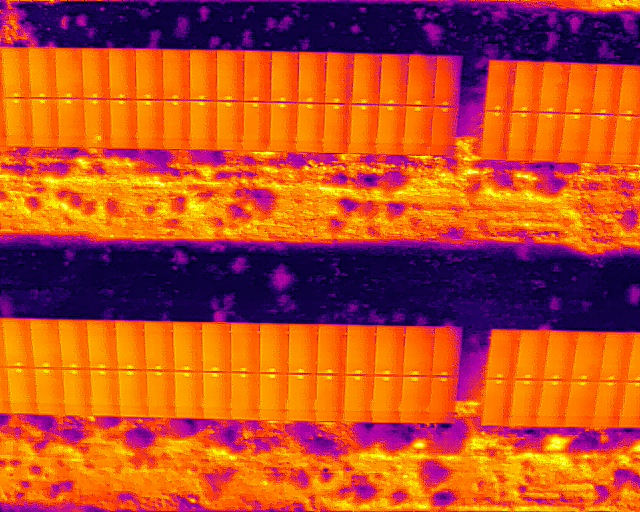photovoltaic_panels: (1, 46, 463, 157), (1, 317, 462, 426), (480, 58, 639, 165), (482, 325, 637, 432)
single_spot: (82, 99, 111, 146)
